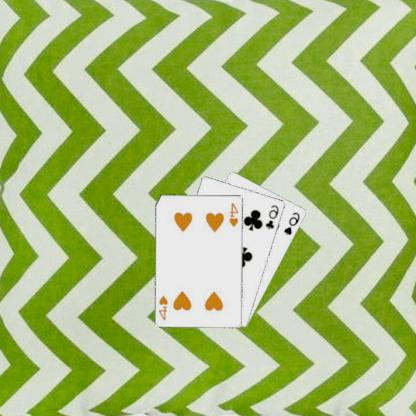4H: (228, 200, 242, 228), (158, 293, 171, 321)
6C: (264, 202, 282, 230)
6S: (284, 209, 304, 236)
